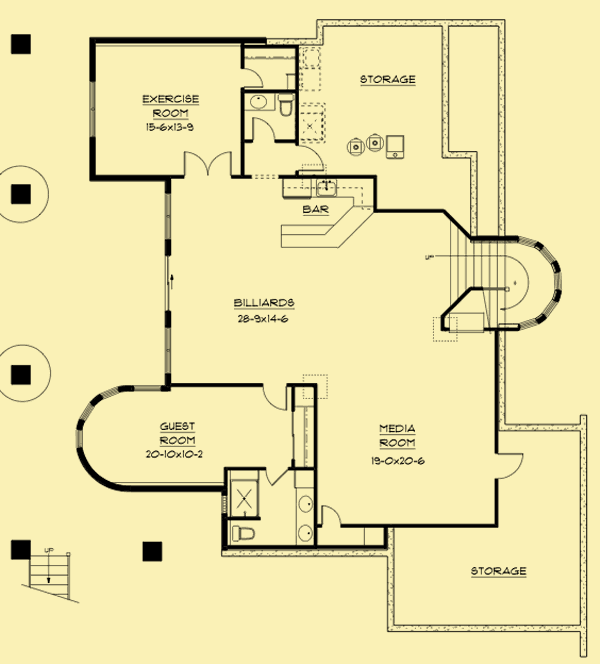door: (180, 149, 234, 180), (494, 450, 526, 483), (250, 115, 282, 144), (262, 381, 290, 412), (239, 65, 265, 91), (301, 147, 327, 172), (262, 464, 291, 486), (318, 503, 343, 526)
large_sink: (227, 523, 257, 544), (274, 91, 295, 116)
small_sink: (293, 487, 319, 547), (243, 91, 277, 112)
stairs: (421, 244, 523, 331), (26, 548, 77, 605)
windows: (529, 237, 566, 325), (158, 325, 174, 377), (86, 79, 98, 140), (162, 192, 174, 241)
